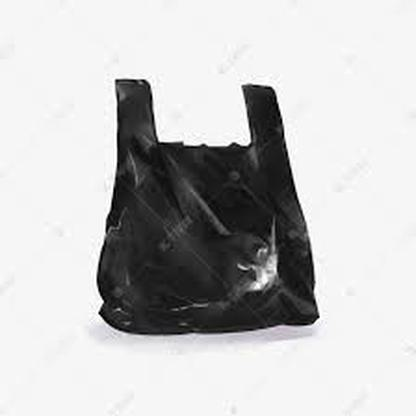plastic bag: (95, 78, 321, 334)
